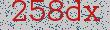2: (4, 1, 28, 29)
5: (30, 1, 47, 25)
8: (48, 1, 66, 26)
d: (67, 1, 82, 24)
x: (84, 1, 103, 26)
